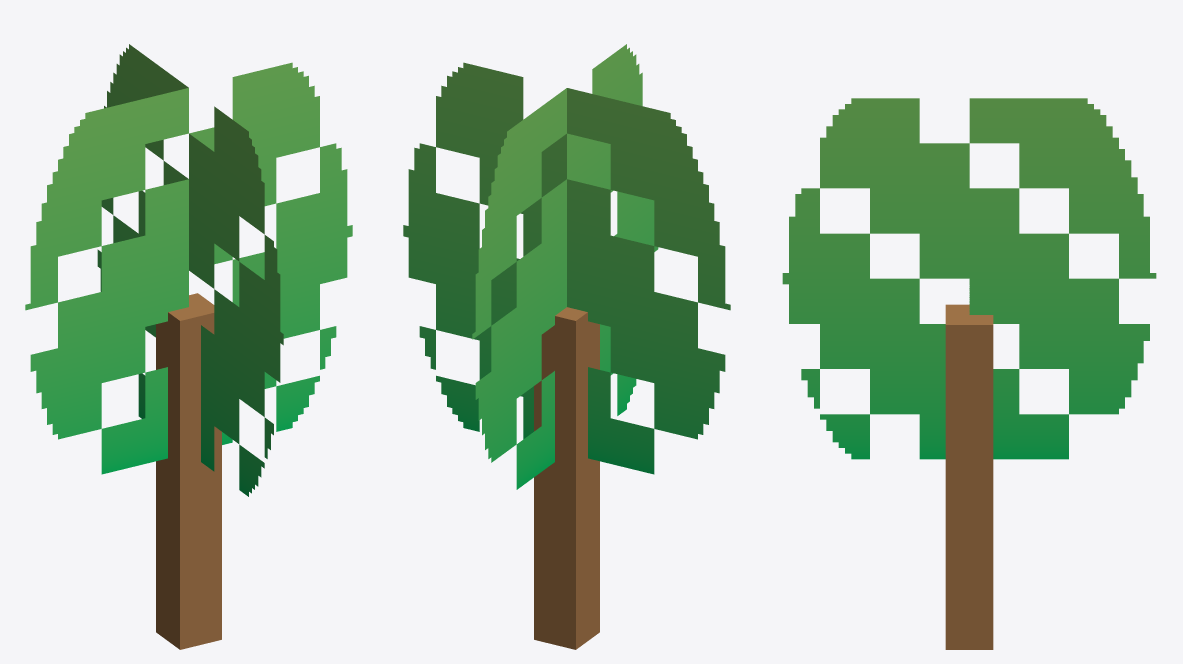
The model's file is tree.glb.
3 views of the same model, side by side, from view 1: azimuth 30°, elevation 25°; view 2: azimuth 150°, elevation 25°; view 3: azimuth 270°, elevation 25° (orthographic).
Size of the model in its own units: 2 by 3 by 2.
2 materials, 1 textured.
